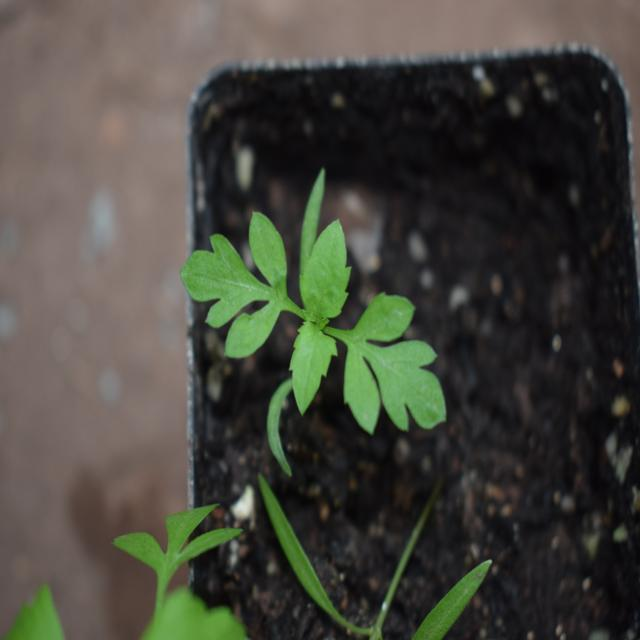Bidens pilosa: (174, 184, 456, 450)
